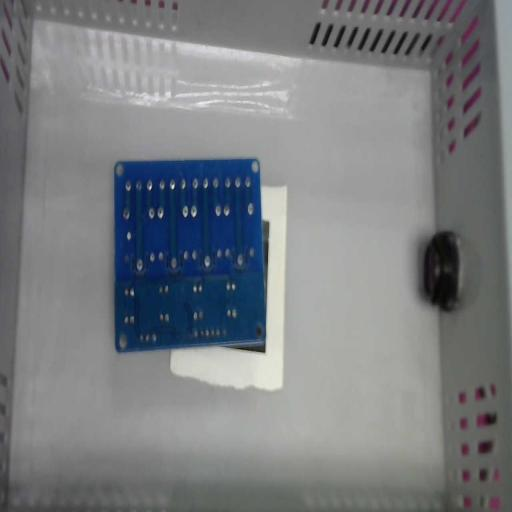relay_module: (114, 157, 266, 354)
